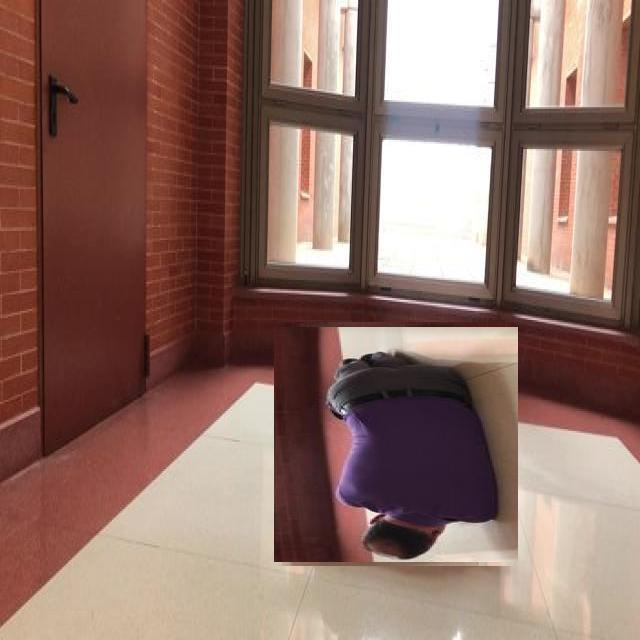Fall: (285, 338, 509, 593)
